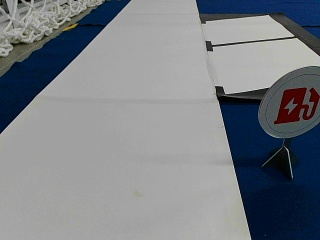battery: (258, 66, 319, 138)
